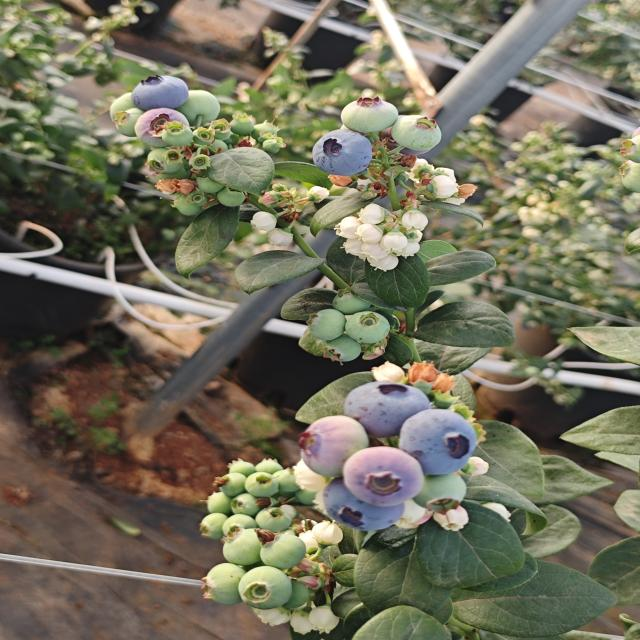ripe: (396, 407, 480, 477), (340, 379, 433, 440), (339, 444, 426, 508), (319, 478, 413, 537), (309, 127, 375, 179), (128, 73, 192, 112), (302, 414, 348, 464)
